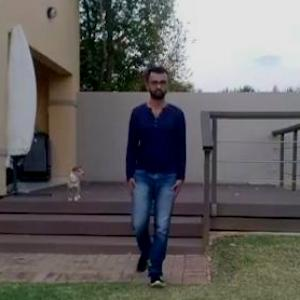follow: (121, 59, 188, 299)
